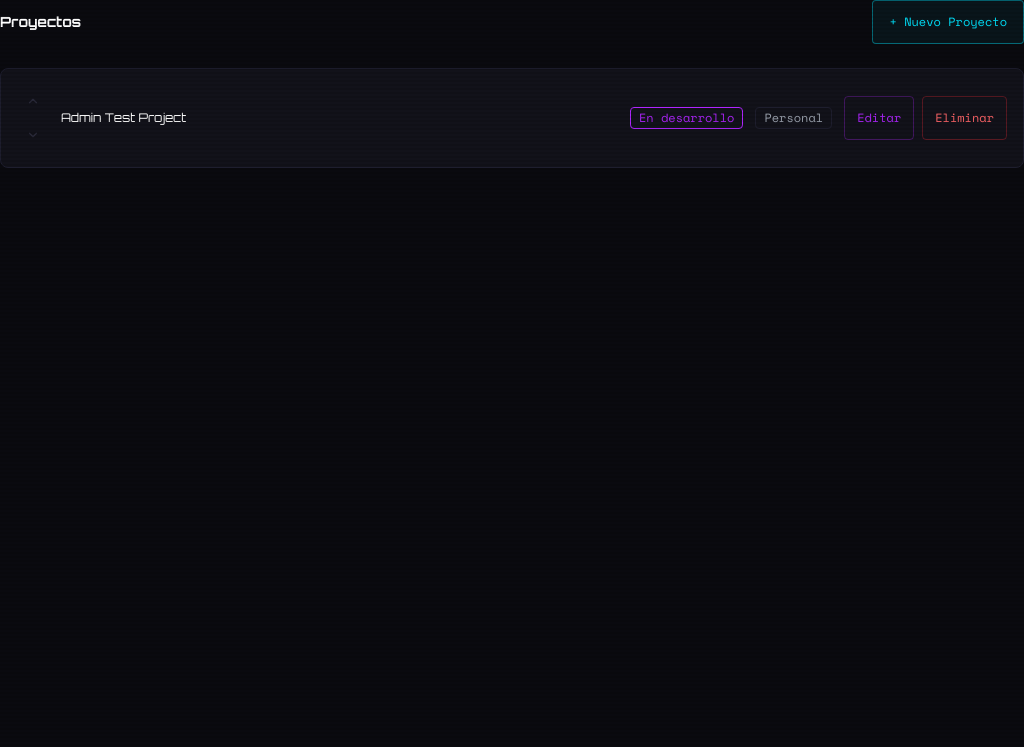
Test case: AdminProjects › opens the create form when "Nuevo Proyecto" is clicked
Check: the text "Admin Test Project" is shown, box [61,110,186,125]
Click the button "+ Nuevo Proyecto".
click(948, 22)  # box [872,0,1023,44]
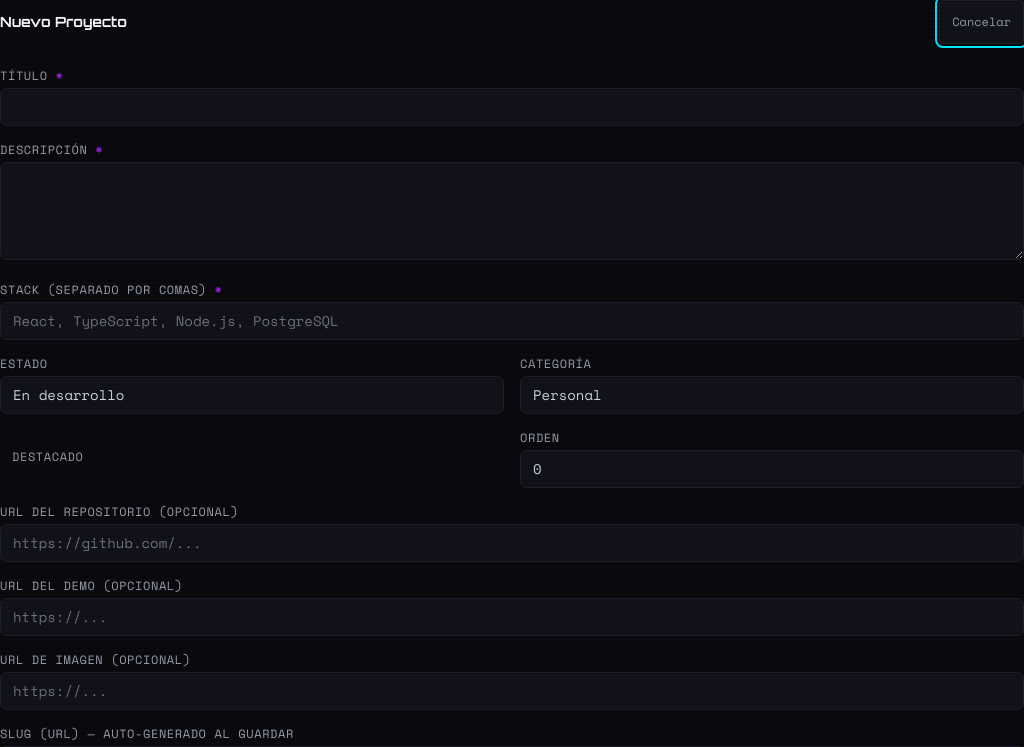
Check: the heading "Nuevo Proyecto" is shown, box [0,12,127,32]
